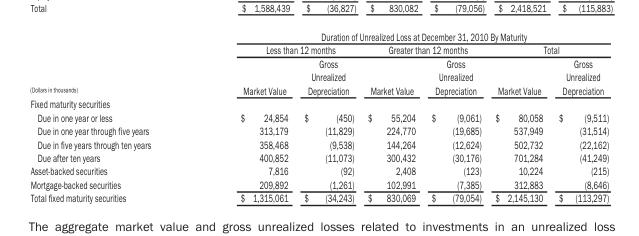table: (29, 29, 608, 205)
table column: (29, 29, 195, 205), (195, 29, 295, 205), (295, 29, 360, 205), (422, 29, 487, 205), (487, 29, 550, 205), (360, 29, 422, 205), (550, 29, 608, 205)
table column header: (29, 29, 608, 96)
table projected row header: (29, 96, 608, 110)
table row: (29, 56, 608, 96), (29, 29, 608, 43), (29, 96, 608, 110), (29, 123, 608, 137), (29, 150, 608, 164), (29, 177, 608, 191), (29, 191, 608, 205), (29, 43, 608, 56), (29, 110, 608, 123), (29, 137, 608, 150), (29, 164, 608, 177)
table spanning cell: (29, 29, 195, 96), (195, 29, 608, 43), (195, 43, 360, 56), (360, 43, 487, 56), (487, 43, 608, 56)
